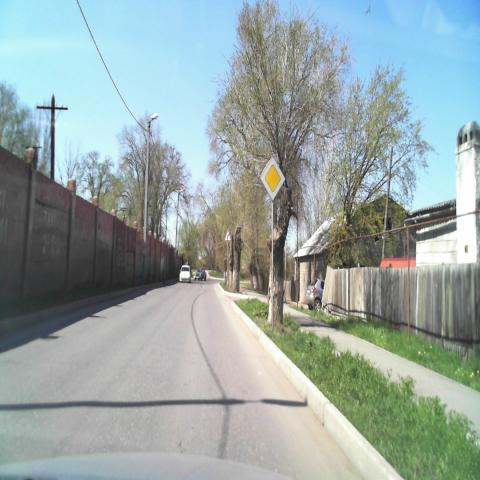1_11: (223, 228, 232, 241)
2_1: (259, 156, 285, 200)
